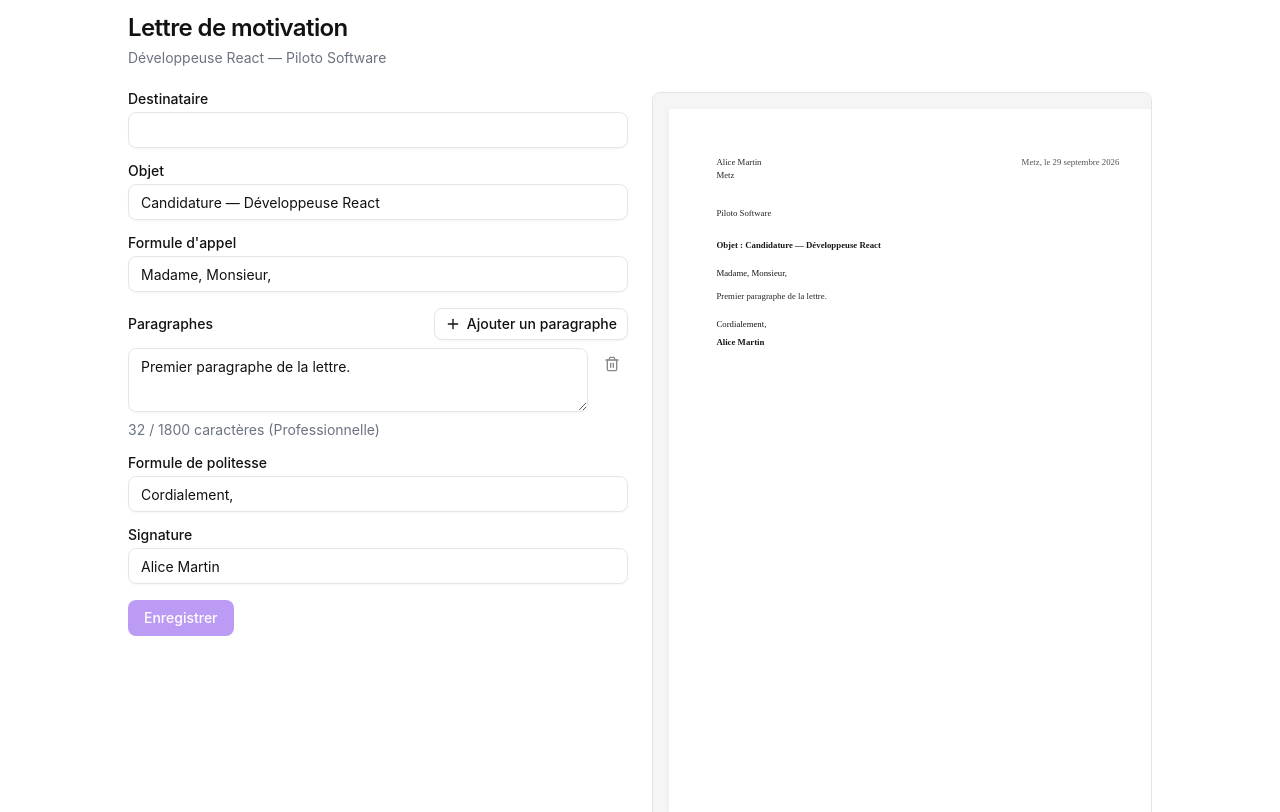
Test: CoverLetterPage — lettre existante › desactive Enregistrer a nouveau apres un enregistrement reussi
Expected: the button "Enregistrer" is disabled, top-left (128, 600), bottom-right (234, 636)
Replace the text in the field labelled "Objet" with "Nouvel objet" at (378, 202), box top-left (128, 184), bottom-right (628, 220)
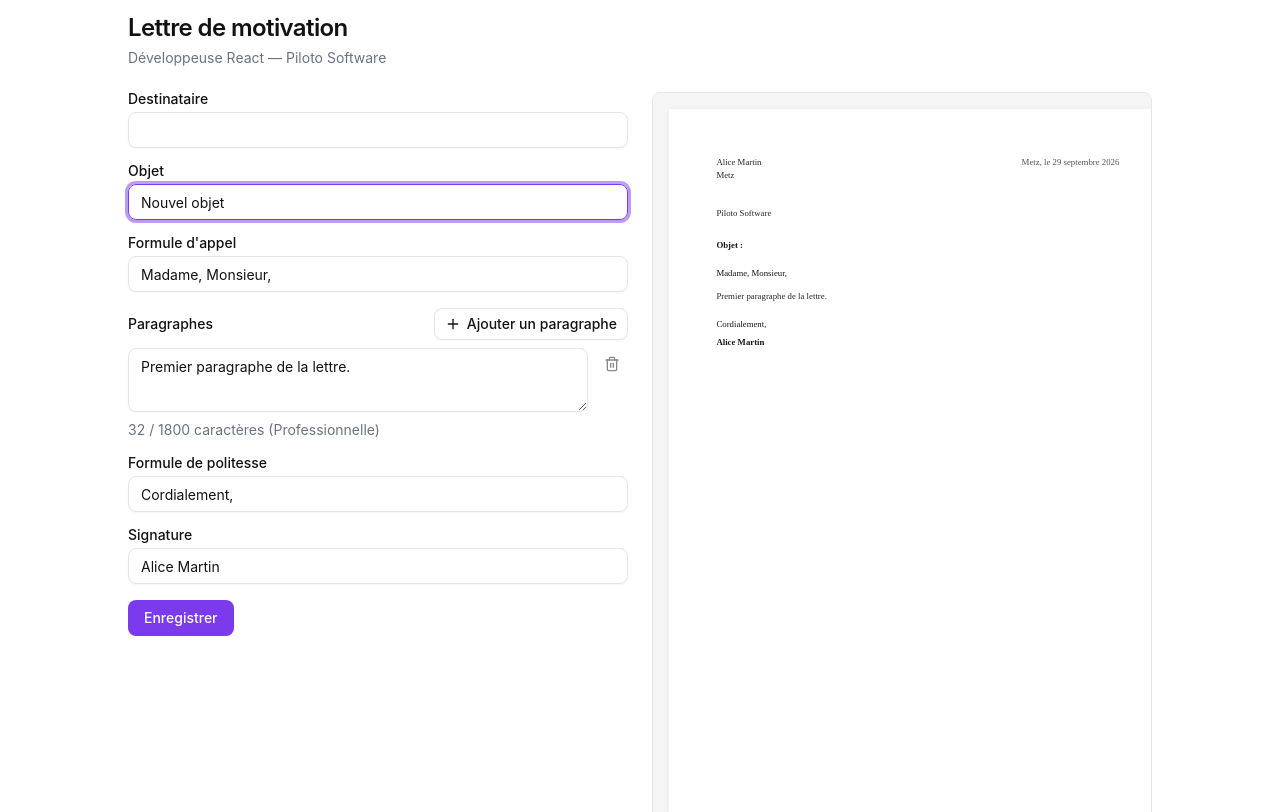
Now the button "Enregistrer" is enabled
Click the button "Enregistrer" at (181, 618), box top-left (128, 600), bottom-right (234, 636)
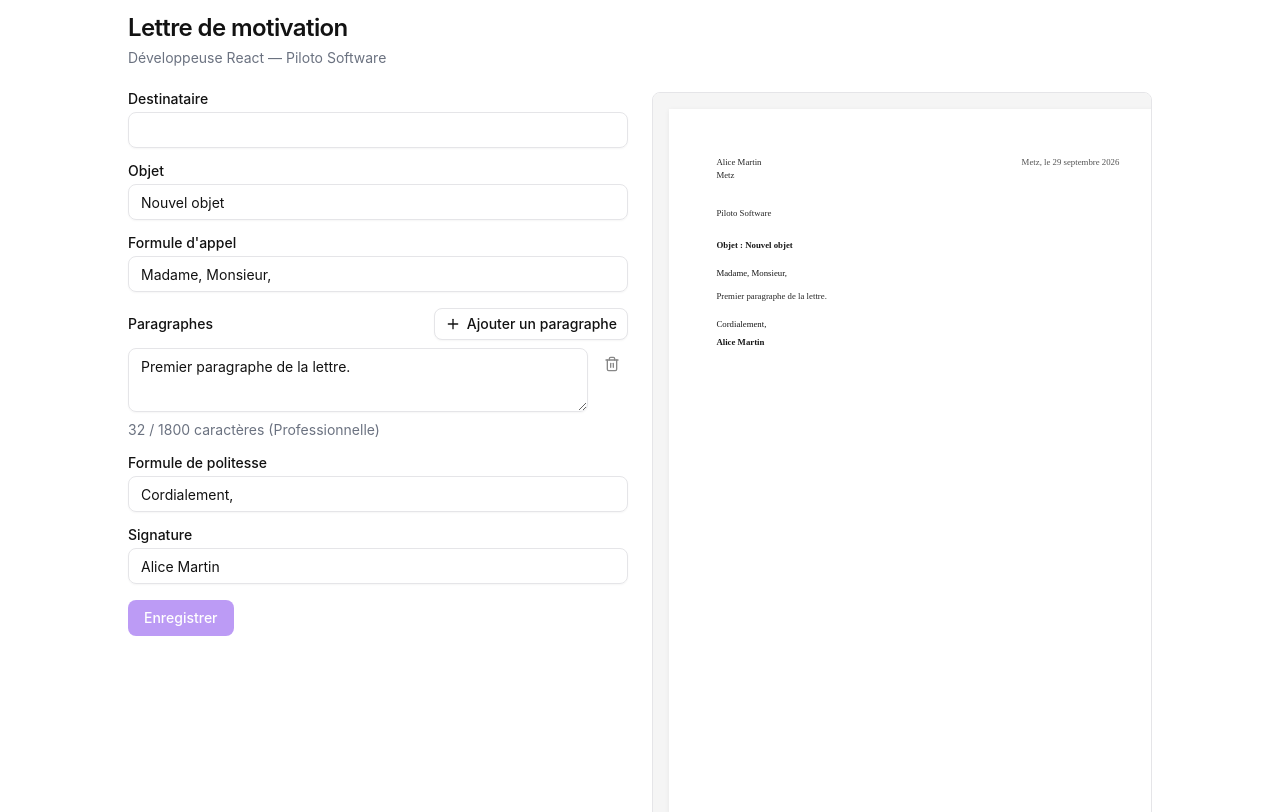
Now the button "Enregistrer" is disabled, box top-left (128, 600), bottom-right (234, 636)
